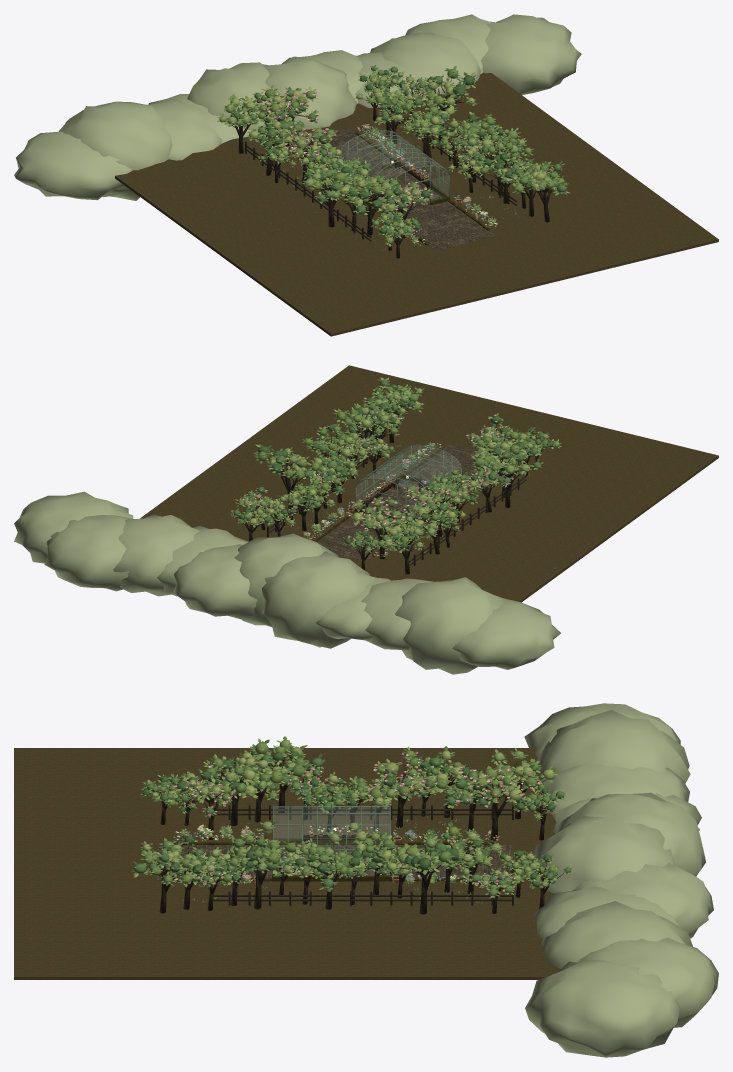
File: garden-2.glb
The picture shows the model from 3 angles, top to bottom: view 1: azimuth 30°, elevation 25°; view 2: azimuth 150°, elevation 25°; view 3: azimuth 270°, elevation 25°; orthographic projection. The views are drawn at different scales.
Visible parts, largest first — view 1: Terrain.002, Distant garden ridges.002, Inner canopy clusters.002, Canopy leaf sprays.002, Individual garden flagstones.002, Branch forks.002, Forked timber and bark.002, Sculpted petals.002, Curved greenhouse ribs.002, Garden fence rails.002, Garden fence posts.002; view 2: Terrain.002, Distant garden ridges.002, Inner canopy clusters.002, Canopy leaf sprays.002, Individual garden flagstones.002, Branch forks.002, Forked timber and bark.002, Sculpted petals.002, Curved greenhouse ribs.002, Garden fence rails.002, Garden fence posts.002; view 3: Terrain.002, Distant garden ridges.002, Inner canopy clusters.002, Canopy leaf sprays.002, Forked timber and bark.002, Branch forks.002, Individual garden flagstones.002, Garden fence rails.002, Sculpted petals.002, Garden fence posts.002, Stone greenhouse plinth.002, Roof glazing.002 (+3 smaller).
Part boxes in pixels (box(x1,y1,x2,y2)): Terrain.002: box(115, 72, 718, 336); Distant garden ridges.002: box(14, 14, 581, 200); Inner canopy clusters.002: box(219, 66, 566, 243); Canopy leaf sprays.002: box(217, 65, 569, 246); Individual garden flagstones.002: box(291, 128, 495, 250); Branch forks.002: box(226, 71, 556, 245); Forked timber and bark.002: box(238, 89, 549, 258); Sculpted petals.002: box(257, 76, 532, 245); Curved greenhouse ribs.002: box(340, 130, 448, 179); Garden fence rails.002: box(246, 110, 517, 241); Garden fence posts.002: box(245, 109, 509, 239); Terrain.002: box(140, 365, 718, 602); Distant garden ridges.002: box(14, 491, 560, 674); Inner canopy clusters.002: box(231, 380, 559, 552); Canopy leaf sprays.002: box(230, 377, 561, 553); Individual garden flagstones.002: box(317, 444, 501, 561); Branch forks.002: box(237, 388, 543, 561); Forked timber and bark.002: box(249, 403, 538, 574); Sculpted petals.002: box(236, 411, 529, 555); Curved greenhouse ribs.002: box(355, 444, 461, 501); Garden fence rails.002: box(269, 442, 526, 565); Garden fence posts.002: box(267, 451, 519, 565); Terrain.002: box(14, 748, 560, 979); Distant garden ridges.002: box(524, 703, 718, 1057); Inner canopy clusters.002: box(133, 739, 571, 896); Canopy leaf sprays.002: box(131, 736, 572, 898); Forked timber and bark.002: box(159, 762, 544, 914); Branch forks.002: box(146, 754, 563, 900); Individual garden flagstones.002: box(156, 844, 512, 880); Garden fence rails.002: box(213, 809, 511, 901); Sculpted petals.002: box(173, 752, 541, 897); Garden fence posts.002: box(228, 805, 513, 905); Stone greenhouse plinth.002: box(272, 839, 390, 881); Roof glazing.002: box(274, 806, 389, 812).
Size of the model in its own units: 54.53 by 10.39 by 49.46.
11 materials, 4 textured.
